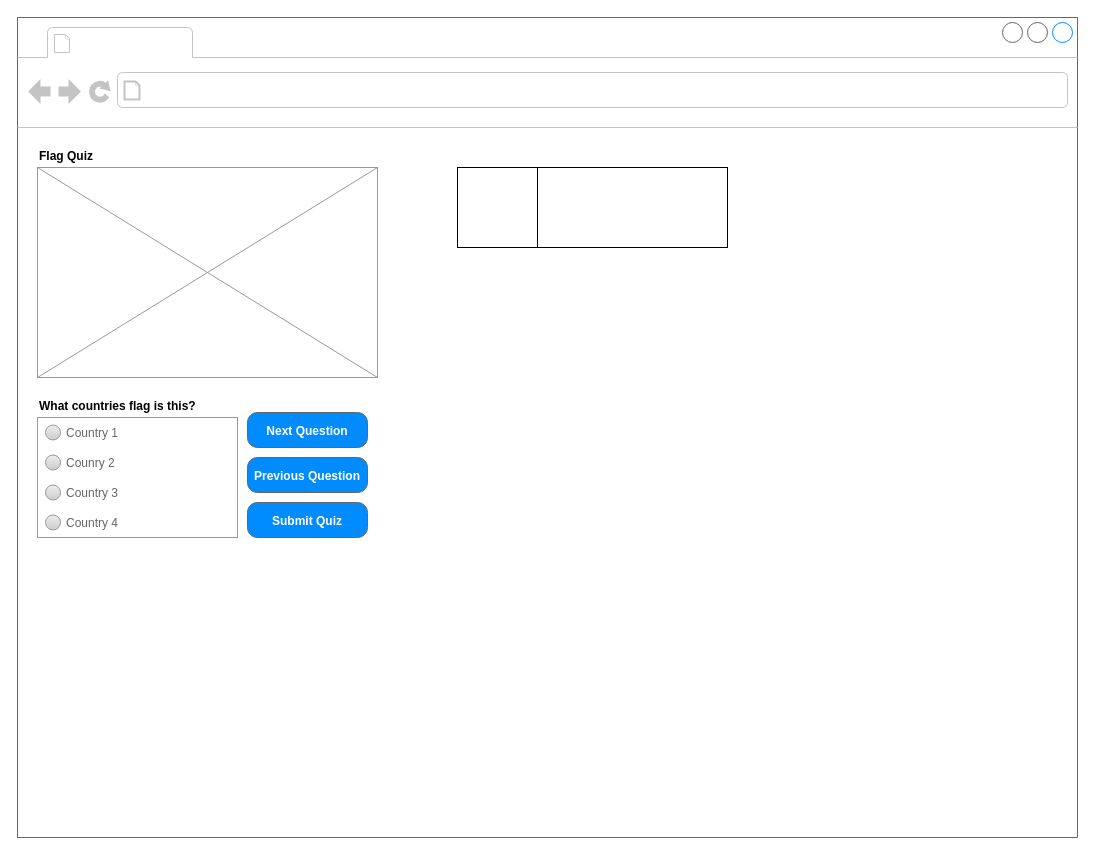
Image size: 1095x855. Some labels were removed from this diagram. The shapes that lost their labels are listed below. From the top down, each one's centre as x and y in pixels, then its label:
At (132,42): "Country Quiz".
At (272,90): "localhost:8080/quiz.html".
At (512,207): "Score 10 0".
At (632,207): "Name Date MPW 2019-01-01 SAW 2019-01-01".
